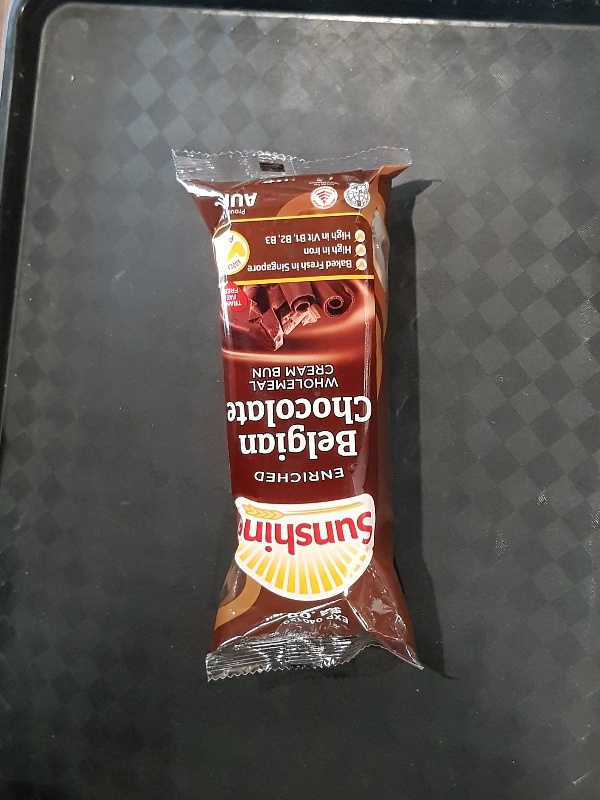Sunshine Belgium Chocolate Wholemeal Cream Bun: (172, 147, 426, 682)
